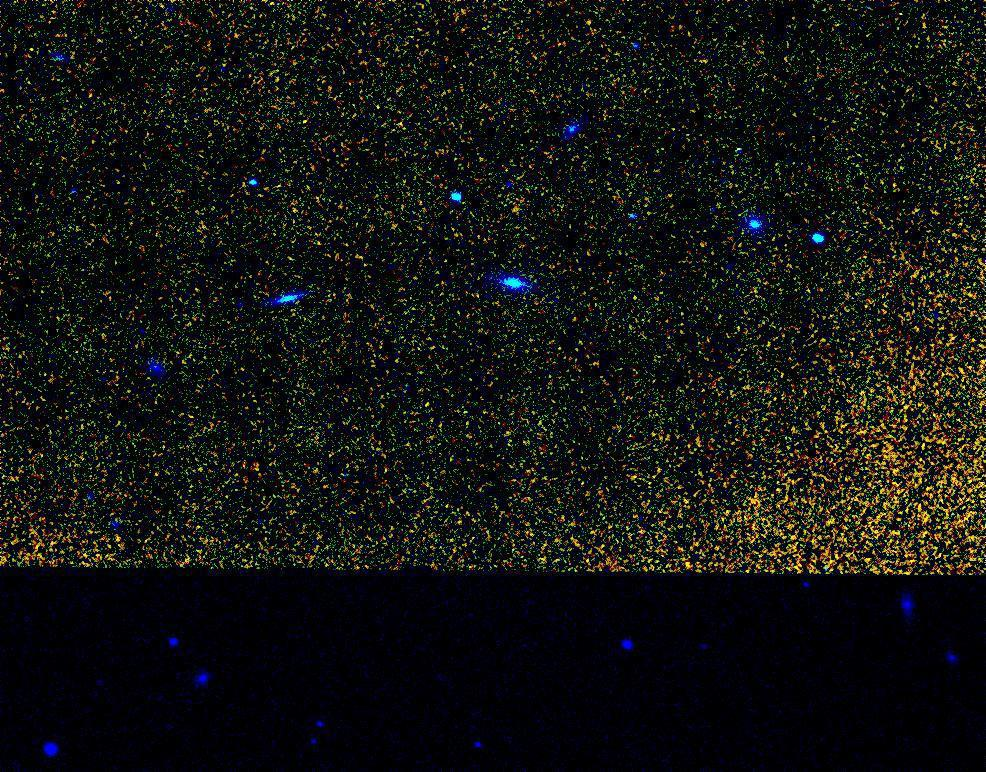star: (573, 6, 603, 36)
